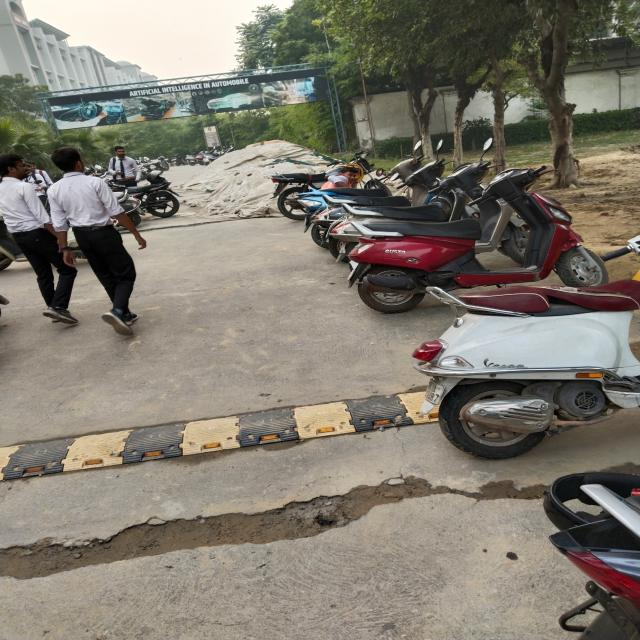unsafe: (50, 147, 148, 336), (0, 152, 64, 320), (108, 146, 144, 200), (26, 157, 56, 208)
